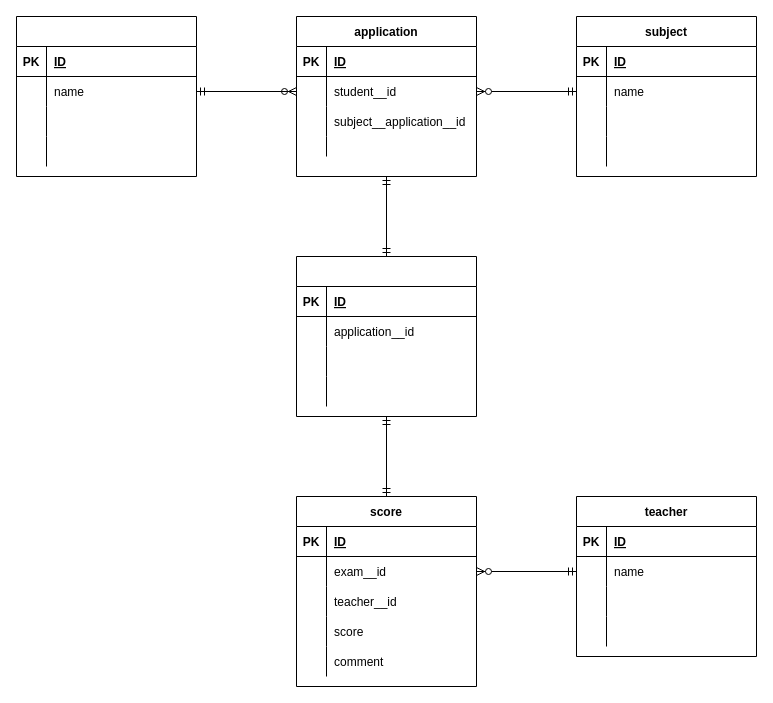
Image size: 773x703. Some labels were removed from this diagram. The box of each missing label's shape, as (x1, y1, x2, y2) in pixels:
exam: (296, 256, 476, 416)
student: (16, 16, 196, 176)
